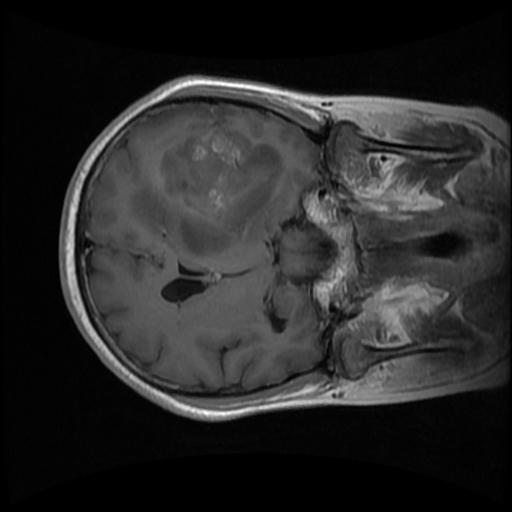glioma: (125, 115, 283, 261)
